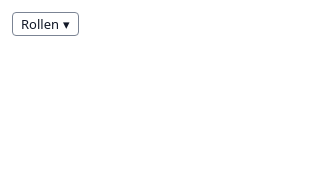
Test: ChipSelect › Fehlschlag: Escape schließt ohne Änderung
Step 1. Click the button "Rollen ▾" → {"x": 45, "y": 24}, box [12,12,79,36]
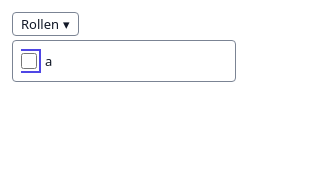
Step 2. Press Escape
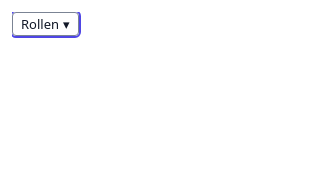
Expected: the checkbox is gone
